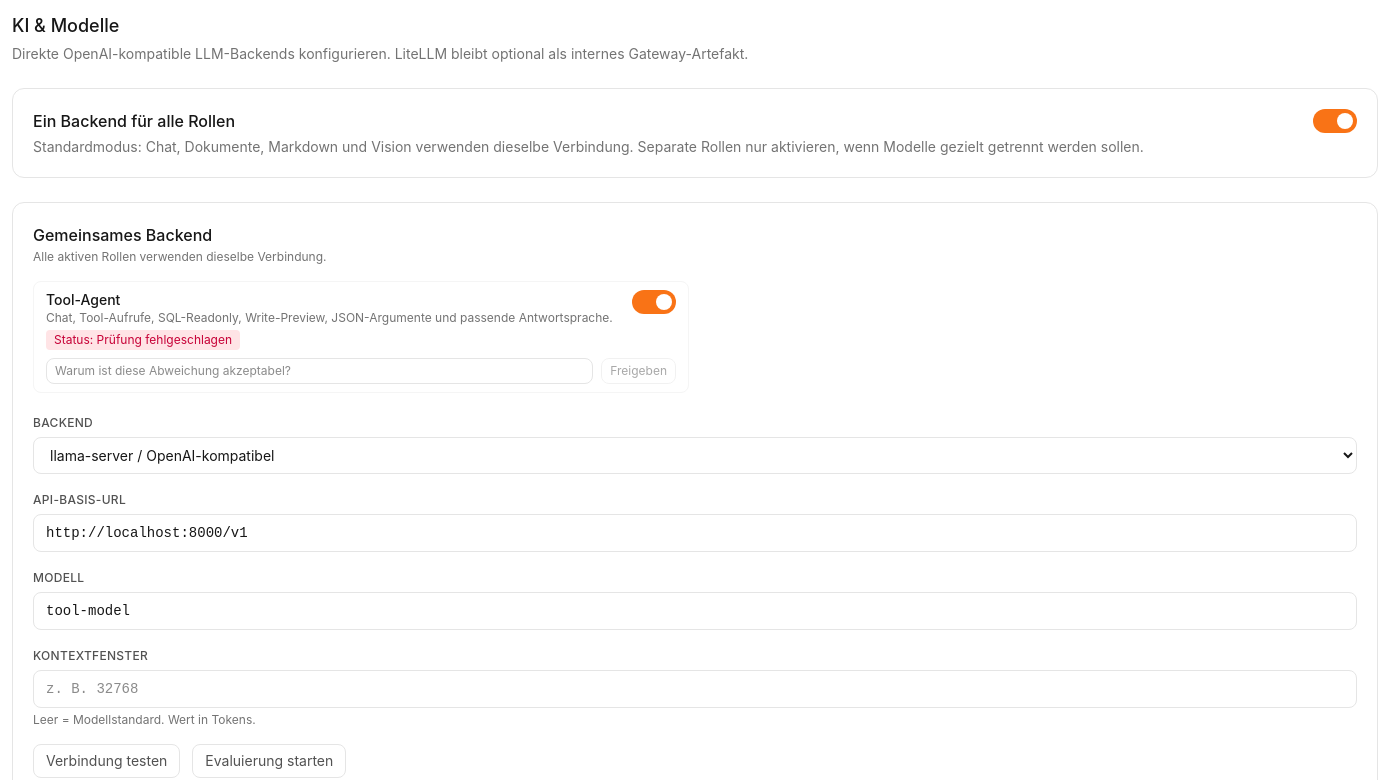
Test: LLMSettingsPage › localizes structured connection test result codes from the API
Expected: the heading "Gemeinsames Backend" is shown, 33,225 -> 212,245
Click the button "Verbindung testen": (107, 761) 33,744 -> 180,778
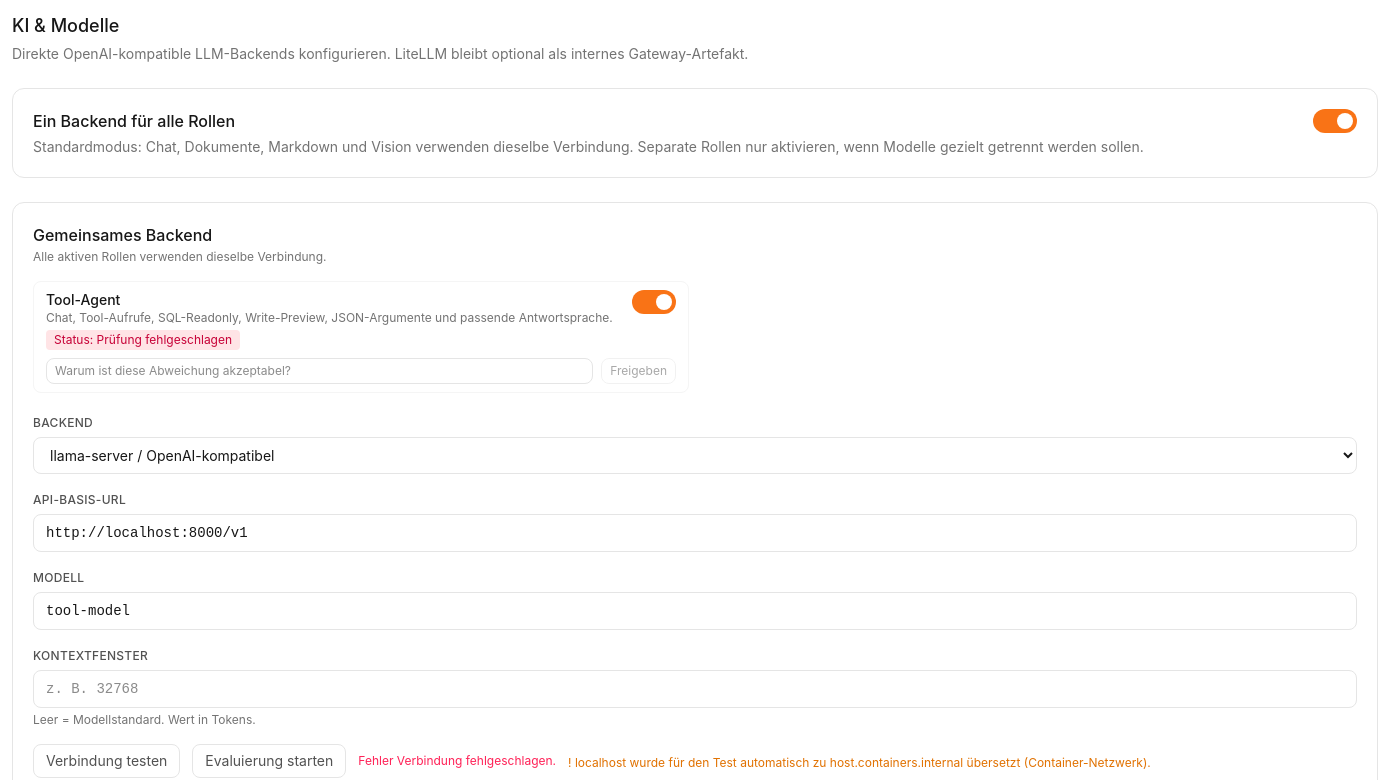
Expected: the text "Fehler Verbindung fehlgeschlagen." is shown, 358,753 -> 556,769
Expected: the text "localhost wurde für den Test automatisch" is shown, 575,755 -> 1151,770
